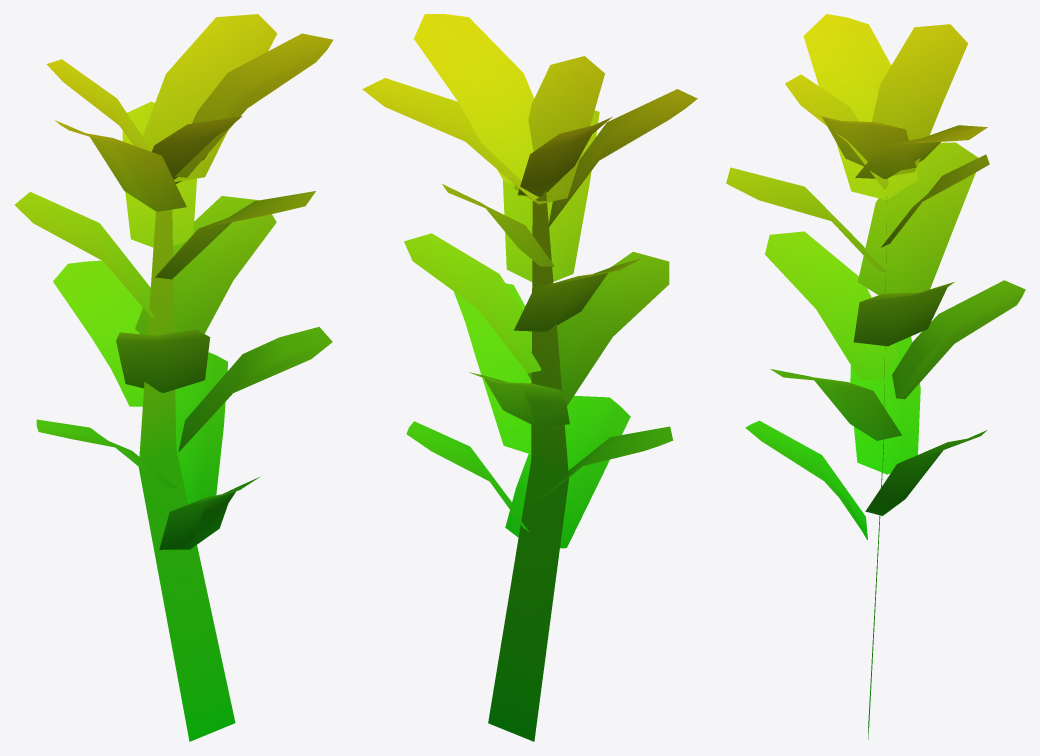
The model's file is Lingonberry_LOD2_Var11_wjhjahlqx.fbx.
3 renders of one model, left to right at view 1: azimuth 30°, elevation 25°; view 2: azimuth 150°, elevation 25°; view 3: azimuth 270°, elevation 25°, orthographic. The views are drawn at different scales.
Parts seen in each view (by area): view 1: _u7bn_Var11_LOD2; view 2: _u7bn_Var11_LOD2; view 3: _u7bn_Var11_LOD2.
Boxes of the visible parts, x1,y1,x2,y2 form: _u7bn_Var11_LOD2: [14, 14, 333, 741]; _u7bn_Var11_LOD2: [362, 14, 697, 741]; _u7bn_Var11_LOD2: [726, 14, 1025, 739].
Size of the model in its own units: 3.11 by 7.47 by 3.04.
